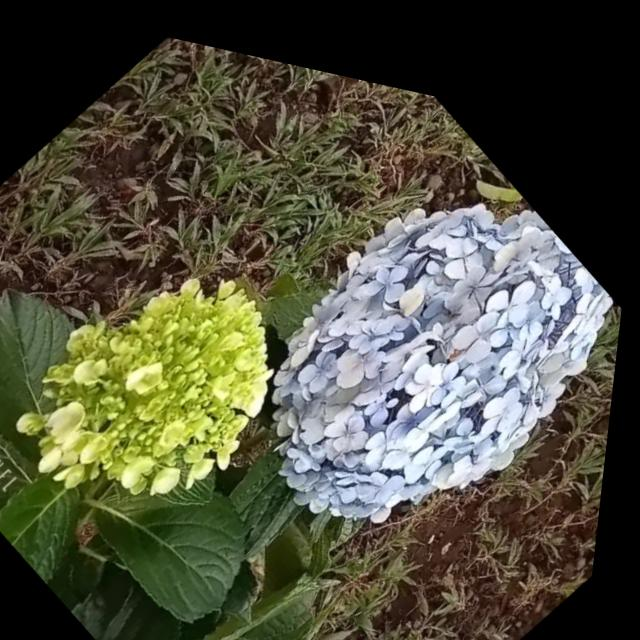Flower: (193, 80, 637, 606), (0, 189, 334, 577)
